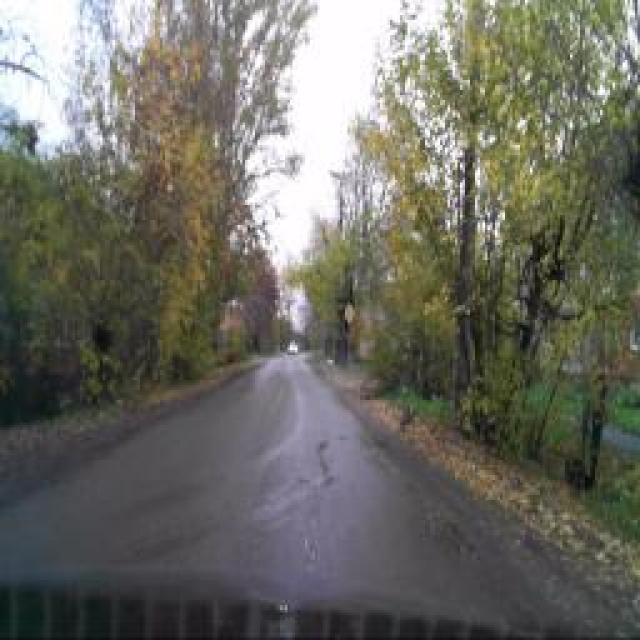sign: (343, 303, 355, 325)
